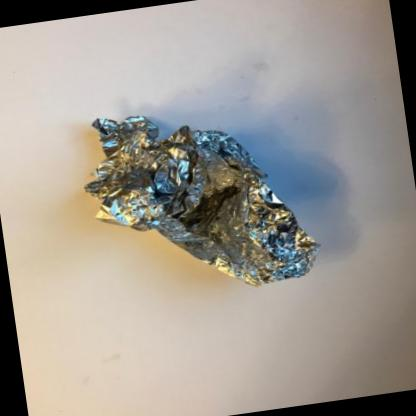Metal: (84, 116, 317, 286)
